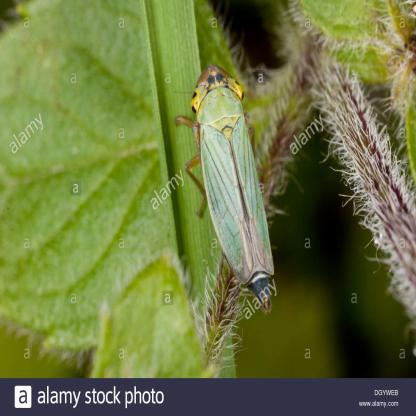Green-Leafhopper: (174, 65, 281, 308)
